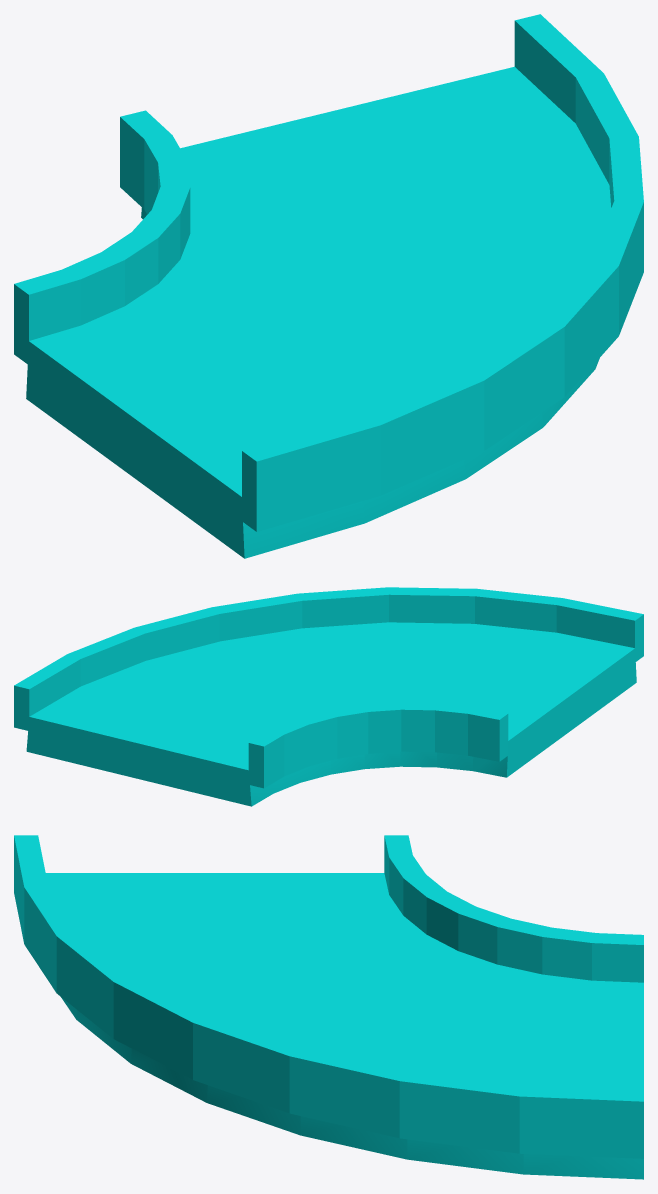
File: SM_Env_Road_Highway_Corner_01_Collision.fbx
The picture shows the model from 3 angles, top to bottom: view 1: azimuth 30°, elevation 25°; view 2: azimuth 150°, elevation 25°; view 3: azimuth 270°, elevation 25°; orthographic projection. The views are drawn at different scales.
Visible parts, largest first — view 1: SM_Env_Road_Highway_Corner_01_Collision; view 2: SM_Env_Road_Highway_Corner_01_Collision; view 3: SM_Env_Road_Highway_Corner_01_Collision.
Boxes of the visible parts, x1,y1,x2,y2 form: SM_Env_Road_Highway_Corner_01_Collision: (14,14,643,558); SM_Env_Road_Highway_Corner_01_Collision: (14,587,643,806); SM_Env_Road_Highway_Corner_01_Collision: (14,835,643,1179).
Bounding box in the file's own units: 1820 × 275 × 1820.
